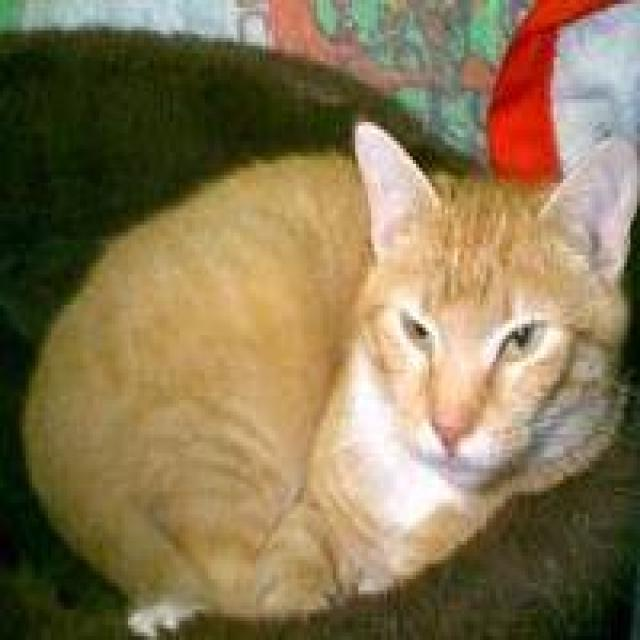cat: (19, 118, 637, 636)
